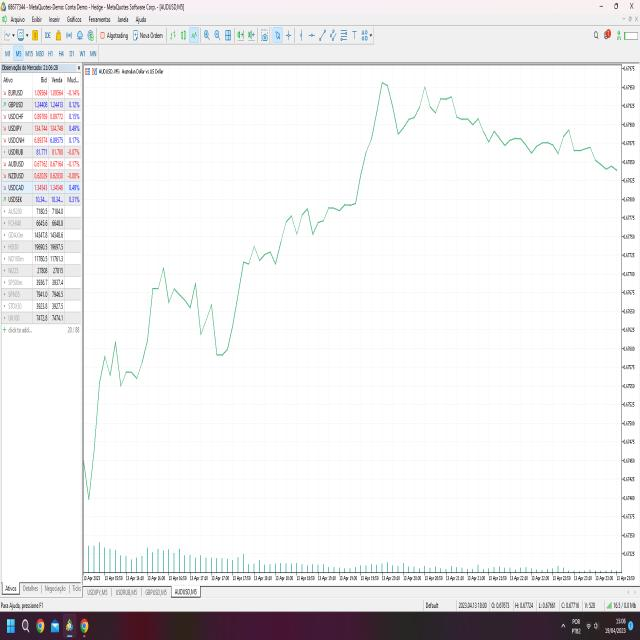bandeira_alta: (88, 334, 150, 506)
